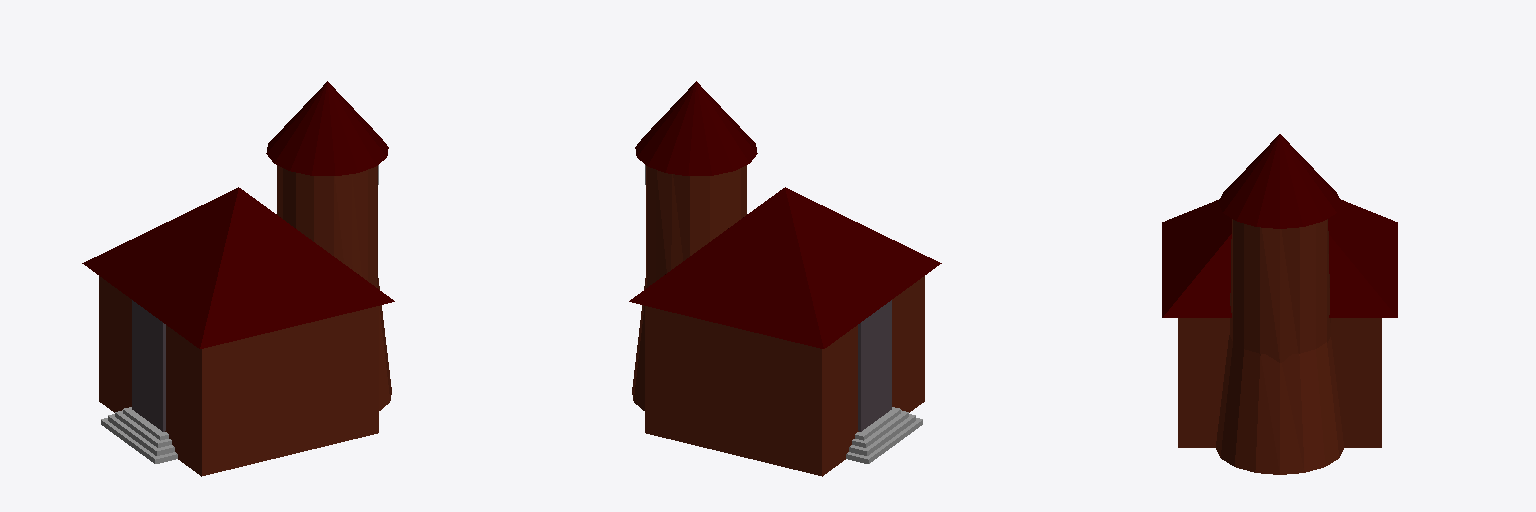
File: smallchurch-5.obj
3 views of the same model, side by side, from view 1: azimuth 30°, elevation 25°; view 2: azimuth 150°, elevation 25°; view 3: azimuth 270°, elevation 25° (orthographic).
Visible parts, largest first — view 1: house_wall, house_roof, tower_roof, tower_tubus_3, door, tower_tubus_2, base_tower, stair4, stair3; view 2: house_wall, house_roof, tower_roof, tower_tubus_3, door, tower_tubus_2, base_tower, stair4, stair3; view 3: house_roof, base_tower, house_wall, tower_roof, tower_tubus_3, tower_tubus_2.
Boxes of the visible parts, x1=… form: house_wall: x1=99, y1=276, x2=378, y2=476; house_roof: x1=82, y1=187, x2=394, y2=348; tower_roof: x1=266, y1=81, x2=388, y2=175; tower_tubus_3: x1=277, y1=165, x2=377, y2=286; door: x1=132, y1=300, x2=165, y2=431; tower_tubus_2: x1=334, y1=170, x2=367, y2=280; base_tower: x1=376, y1=278, x2=391, y2=410; stair4: x1=101, y1=418, x2=177, y2=463; stair3: x1=108, y1=414, x2=174, y2=455; house_wall: x1=645, y1=276, x2=924, y2=476; house_roof: x1=629, y1=187, x2=941, y2=348; tower_roof: x1=635, y1=81, x2=757, y2=175; tower_tubus_3: x1=646, y1=165, x2=746, y2=286; door: x1=858, y1=300, x2=891, y2=431; tower_tubus_2: x1=656, y1=170, x2=689, y2=280; base_tower: x1=632, y1=278, x2=647, y2=410; stair4: x1=846, y1=418, x2=922, y2=463; stair3: x1=849, y1=414, x2=915, y2=455; house_roof: x1=1162, y1=199, x2=1397, y2=317; base_tower: x1=1216, y1=335, x2=1343, y2=474; house_wall: x1=1178, y1=318, x2=1381, y2=447; tower_roof: x1=1218, y1=134, x2=1341, y2=228; tower_tubus_3: x1=1233, y1=220, x2=1326, y2=353; tower_tubus_2: x1=1230, y1=219, x2=1330, y2=362.
Size of the model in its own units: 9.22 by 10.83 by 7.34.